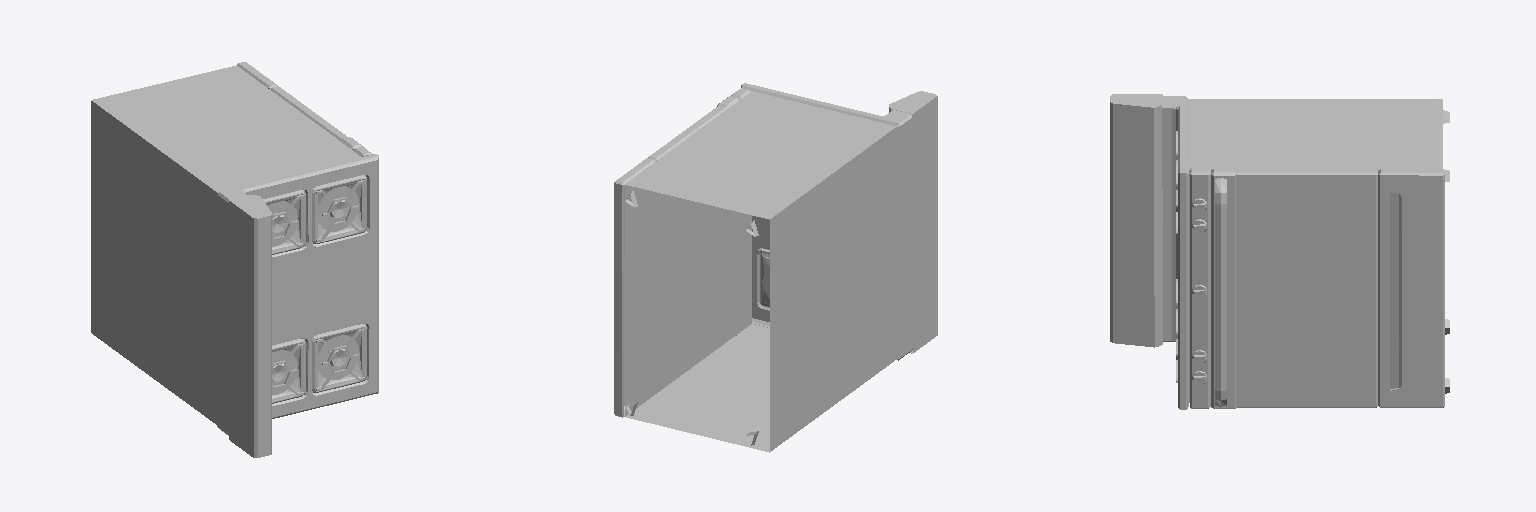
The model's file is stove02_a.obj.
The picture shows the model from 3 angles: view 1: azimuth 30°, elevation 25°; view 2: azimuth 150°, elevation 25°; view 3: azimuth 270°, elevation 25°; orthographic projection.
Parts seen in each view (by area): view 1: stove02_a; view 2: stove02_a; view 3: stove02_a.
Boxes of the visible parts, box(x1,y1,x2,y2) form: stove02_a: box(91, 62, 378, 457); stove02_a: box(614, 83, 937, 452); stove02_a: box(1110, 94, 1449, 409).
Size of the model in its own units: 27.28 by 36.33 by 46.66.